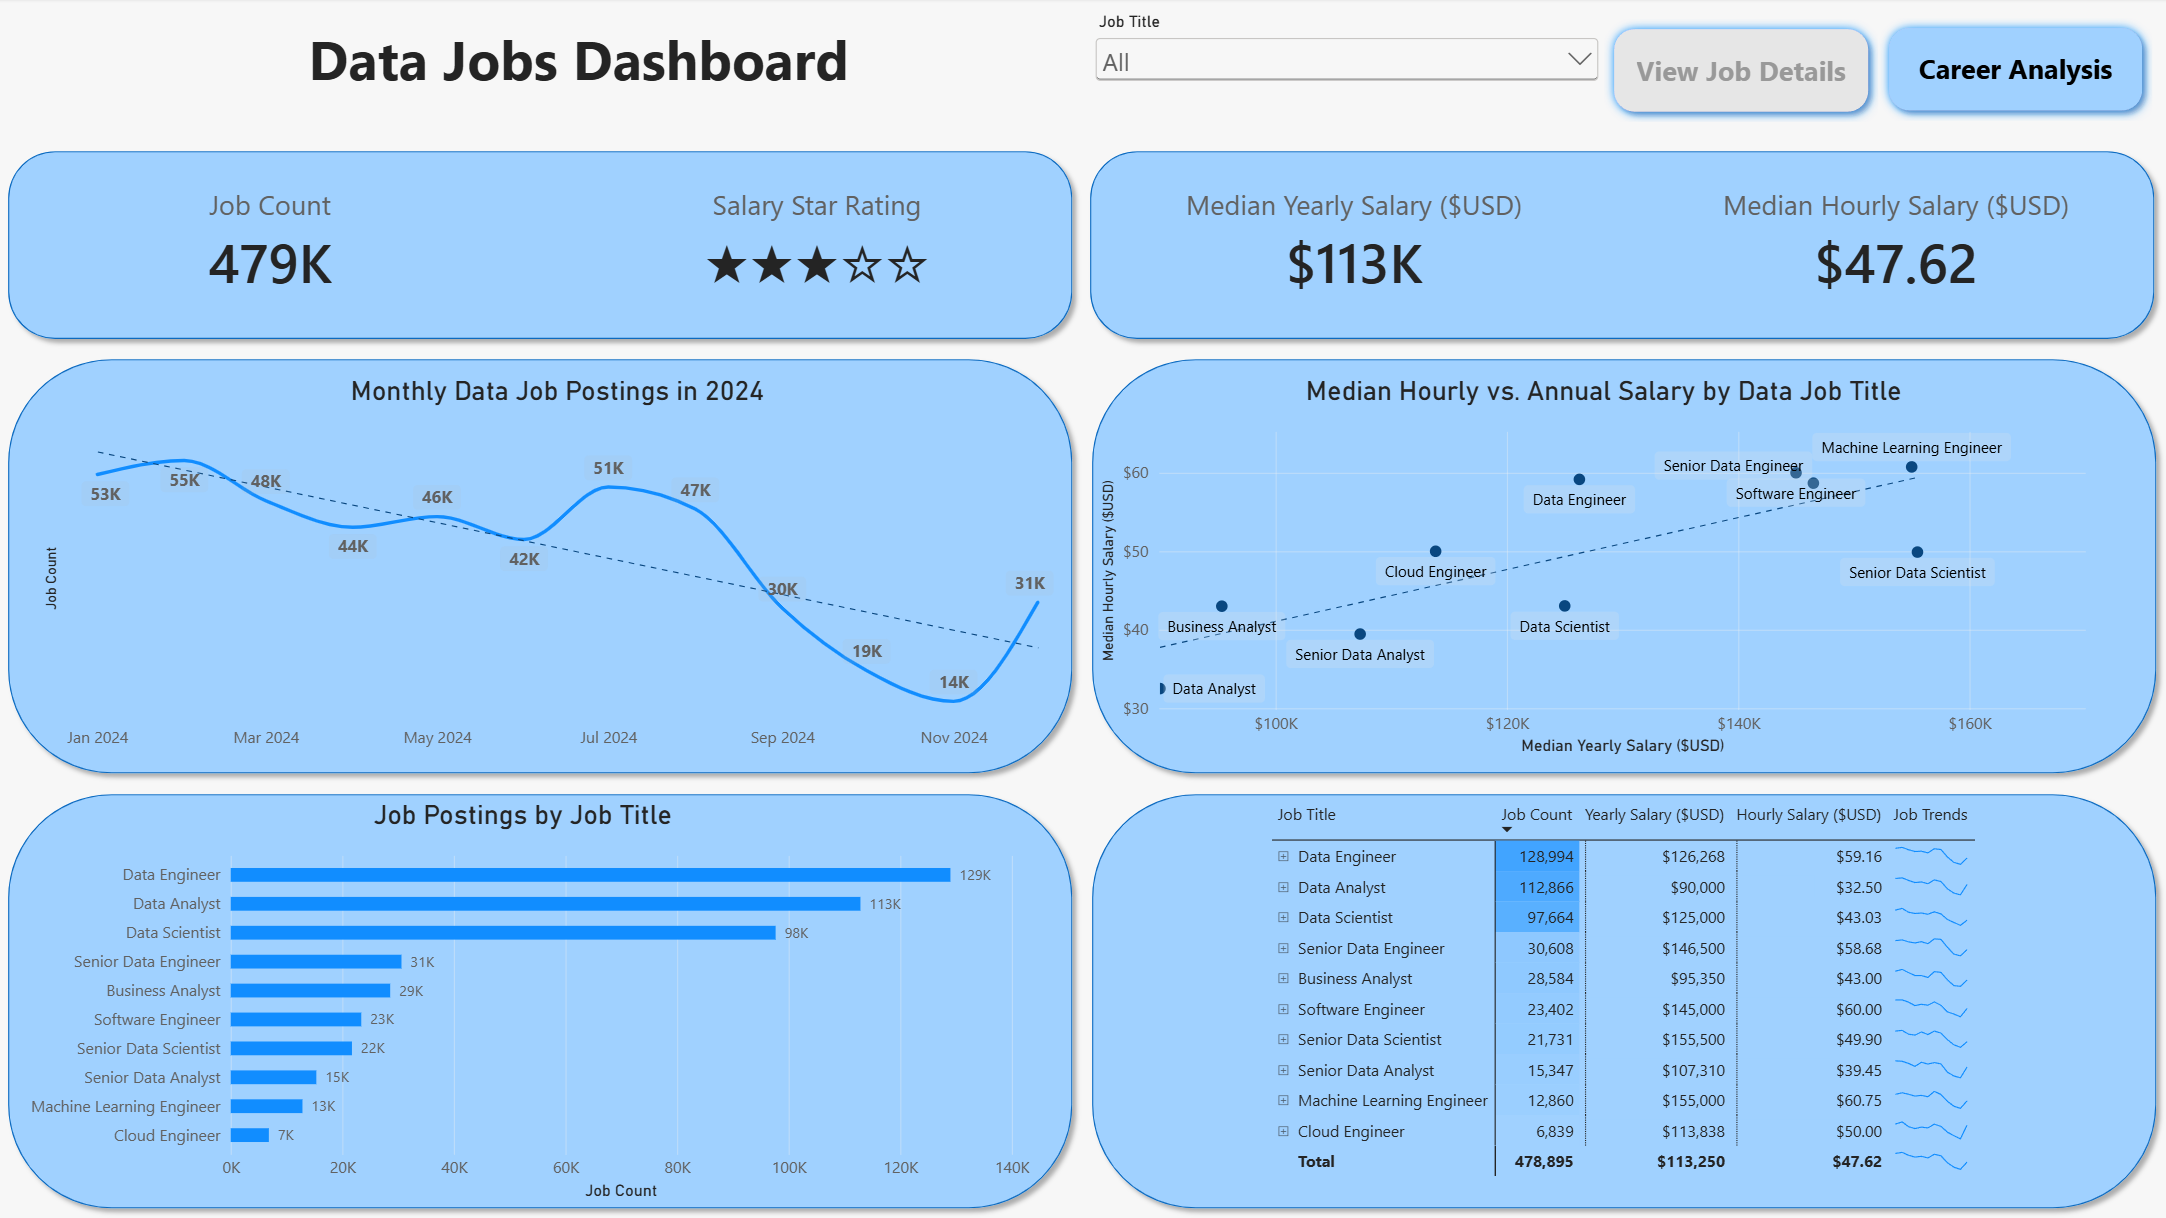

This screenshot's page, from the dashboard's own definition file:
{"tool":"powerbi","page":{"name":"Data Jobs Dashboard","canvas":[1920,1080],"ordinal":0},"visuals":[{"type":"group","id":"g1","title":"Background","box":[0,126.4,1920,953.5],"z":0},{"type":"shape","box":[0,126.4,960,184.2],"z":0,"group":"g1"},{"type":"textbox","box":[125.1,20.6,778.4,87.4],"z":1000},{"type":"shape","box":[958,126.4,960,184.2],"z":1000,"group":"g1"},{"type":"slicer","fields":{"Values":["job_postings_flat.job_title_short"]},"box":[966.7,12.1,455.4,110.5],"z":2000},{"type":"shape","box":[0,310.6,960,384.6],"z":2000,"group":"g1"},{"type":"cardVisual","fields":{"Data":["Median(job_postings_flat.salary_year_avg)"]},"box":[960.6,122.6,480,187.5],"z":3000},{"type":"shape","box":[960,310.6,960,384.6],"z":3000,"group":"g1"},{"type":"cardVisual","fields":{"Data":["Median(job_postings_flat.salary_hour_avg)"]},"box":[1440.6,122.6,480,187.5],"z":4000},{"type":"shape","box":[0,695.2,960,384.6],"z":4000,"group":"g1"},{"type":"cardVisual","fields":{"Data":["job_postings_flat.Salary Star Rating"]},"box":[485.5,122.6,480,187.5],"z":5000},{"type":"shape","box":[960,695.2,960,384.6],"z":5000,"group":"g1"},{"type":"cardVisual","fields":{"Data":["CountNonNull(job_postings_flat.job_title_short)"]},"box":[0.6,122.6,480,187.5],"z":6000},{"type":"lineChart","title":"Monthly Data Job Postings in 2024","fields":{"Category":["job_postings_flat.job_posted_date.Variation.Date Hierarchy.Year","job_postings_flat.job_posted_date.Variation.Date Hierarchy.Quarter","job_postings_flat.job_posted_date.Variation.Date Hierarchy.Month","job_postings_flat.job_posted_date.Variation.Date Hierarchy.Day"],"Y":["CountNonNull(job_postings_flat.job_title_short)"]},"box":[24,319.3,942.6,366.1],"z":7000},{"type":"barChart","title":"Job Postings by Job Title","fields":{"Category":["job_postings_flat.job_title_short"],"Y":["CountNonNull(job_postings_flat.job_title_short)"]},"box":[0,695.2,929.5,384.7],"z":8000},{"type":"scatterChart","title":"Median Hourly vs. Annual Salary by Data Job Title","fields":{"Series":["job_postings_flat.job_title_short"],"X":["Median(job_postings_flat.salary_year_avg)"],"Y":["Median(job_postings_flat.salary_hour_avg)"]},"box":[960,319.3,924,366.1],"z":9000},{"type":"pivotTable","fields":{"Rows":["job_postings_flat.job_title_short","job_postings_flat.job_posted_date.Variation.Date Hierarchy.Quarter"],"Values":["CountNonNull(job_postings_flat.job_title_short)","Median(job_postings_flat.salary_year_avg)","Median(job_postings_flat.salary_hour_avg)","SparklineData(CountNonNull(job_postings_flat.job_title_short)_[job_postings_flat.job_posted_date.Variation.Date Hierarch"]},"box":[1111.5,695.2,657.1,384.7],"z":10000},{"type":"actionButton","box":[1422.1,18.2,242.9,91.1],"z":11000},{"type":"actionButton","box":[1665,18,242,91],"z":12000}]}

Visuals, with their boxes in screenshot pixels (x1, y1, x2, y2), scaled from the page's 1920x1080 canvas onto the 2166x1218 screenshot:
"Background" group: select_region(0, 143, 2165, 1217)
shape: select_region(0, 143, 1083, 350)
textbox: select_region(141, 23, 1019, 122)
shape: select_region(1081, 143, 2164, 350)
slicer - job_postings_flat.job_title_short: select_region(1091, 14, 1604, 138)
shape: select_region(0, 350, 1083, 784)
cardVisual - Median(job_postings_flat.salary_year_avg): select_region(1084, 138, 1625, 350)
shape: select_region(1083, 350, 2165, 784)
cardVisual - Median(job_postings_flat.salary_hour_avg): select_region(1625, 138, 2165, 350)
shape: select_region(0, 784, 1083, 1217)
cardVisual - job_postings_flat.Salary Star Rating: select_region(548, 138, 1089, 350)
shape: select_region(1083, 784, 2165, 1217)
cardVisual - CountNonNull(job_postings_flat.job_title_short): select_region(1, 138, 542, 350)
"Monthly Data Job Postings in 2024" lineChart: select_region(27, 360, 1090, 773)
"Job Postings by Job Title" barChart: select_region(0, 784, 1049, 1217)
"Median Hourly vs. Annual Salary by Data Job Title" scatterChart: select_region(1083, 360, 2125, 773)
pivotTable - job_postings_flat.job_title_short x job_postings_flat.job_posted_date.Variation.Date Hierarchy.Quarter: select_region(1254, 784, 1995, 1217)
actionButton: select_region(1604, 21, 1878, 123)
actionButton: select_region(1878, 20, 2151, 123)
